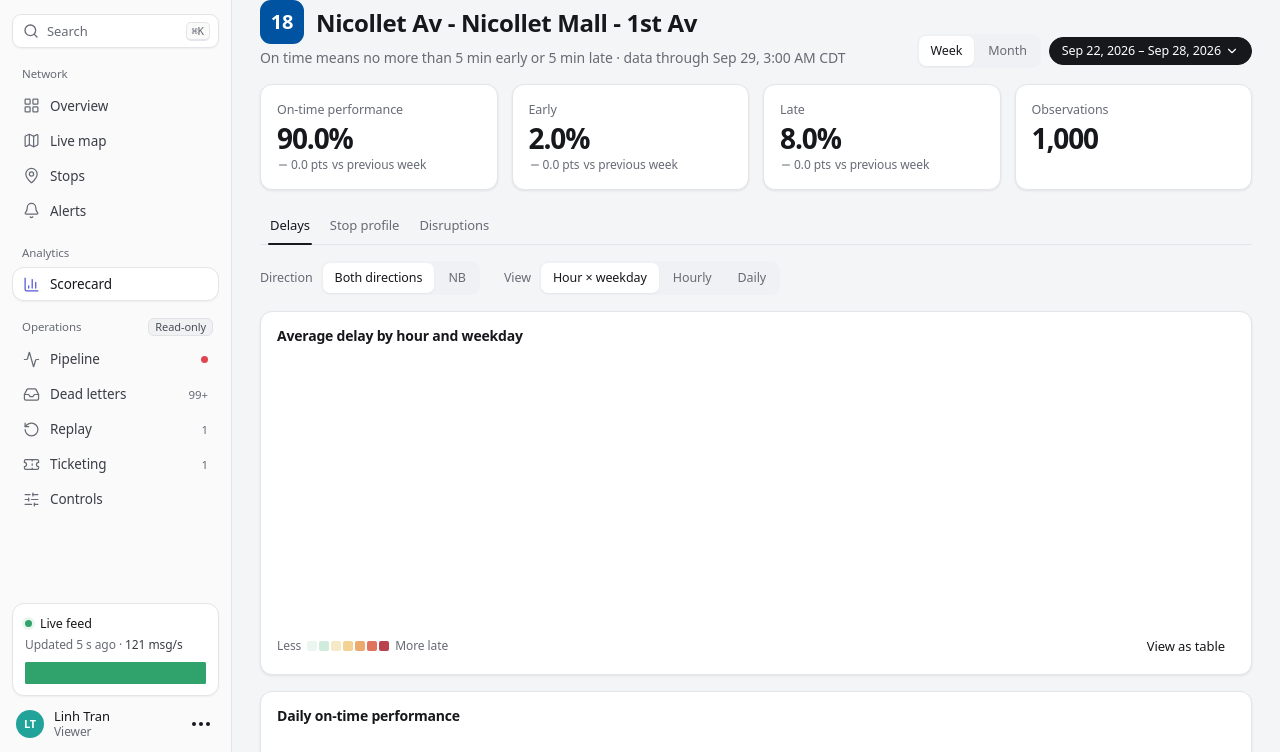
Scenario: Route details › AC-3 draws the 7 × 24 heatmap and gives the same numbers as a table
Click the button "View as table" at (1186, 646), box [1137,632,1235,660]
(page scrolled)
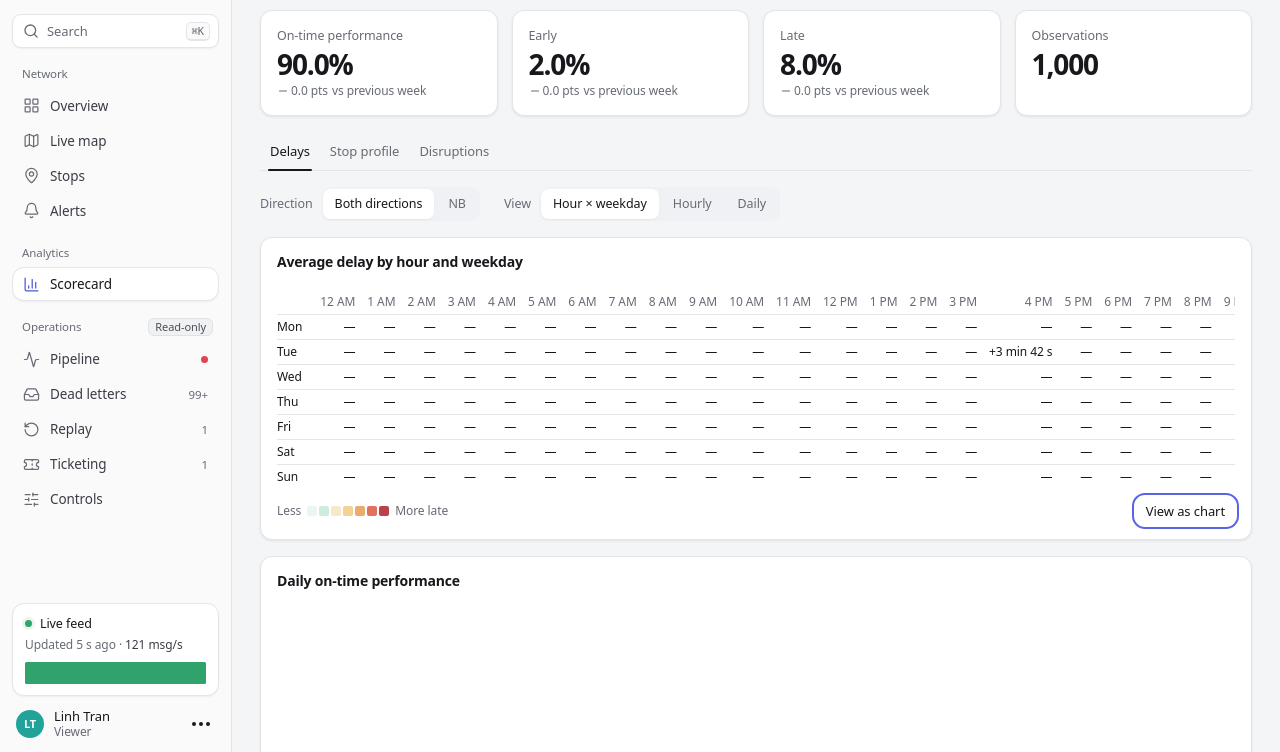
Check: the row "Tue" shows "+3 min 42 s", box [989,343,1052,360]
Check: the number of rows is 8
